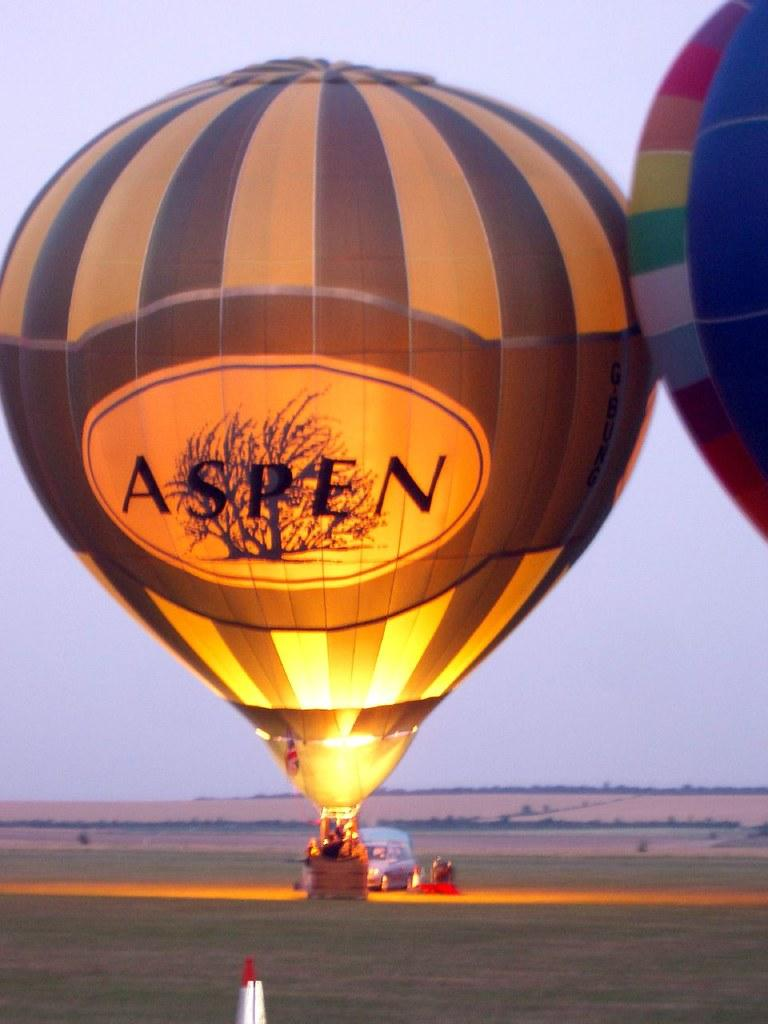balloon: (2, 54, 661, 873)
